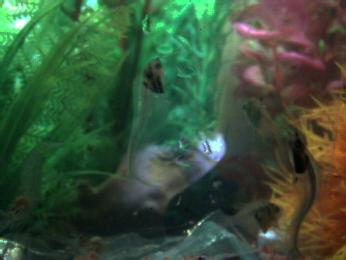X-ray fish: (216, 196, 286, 238), (240, 94, 285, 152), (1, 230, 58, 260)
glassfish: (119, 57, 166, 187), (283, 126, 324, 260)
siberian prawn: (1, 141, 46, 230), (51, 229, 167, 260)
